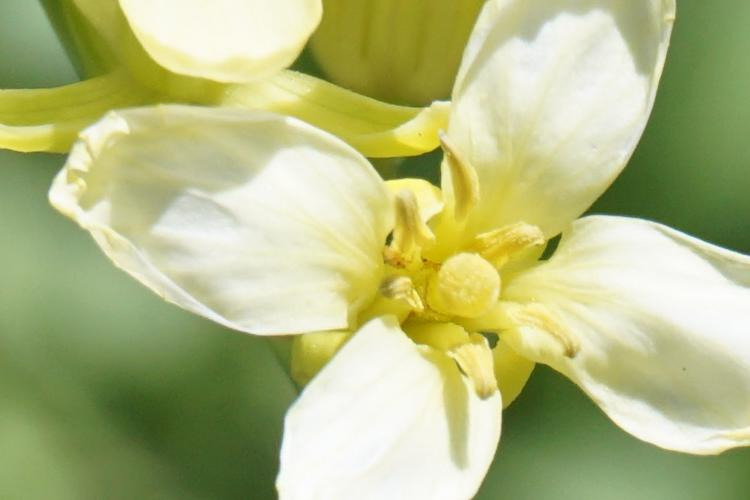white: (122, 102, 739, 476)
